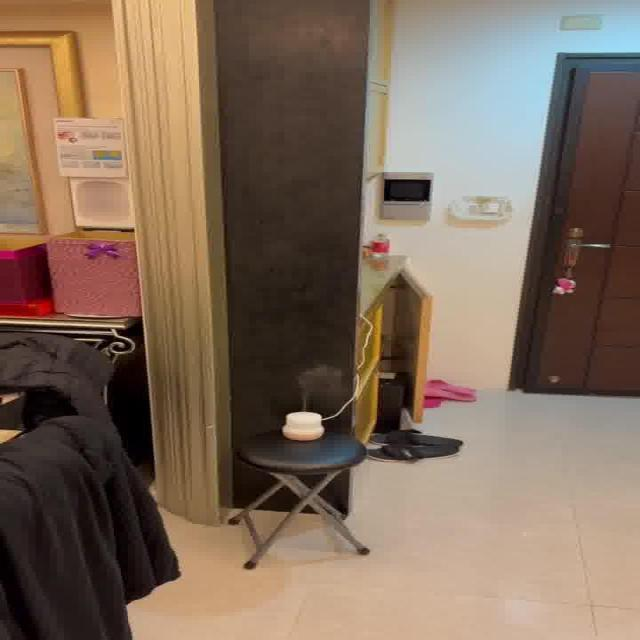fire: (286, 362, 341, 404)
